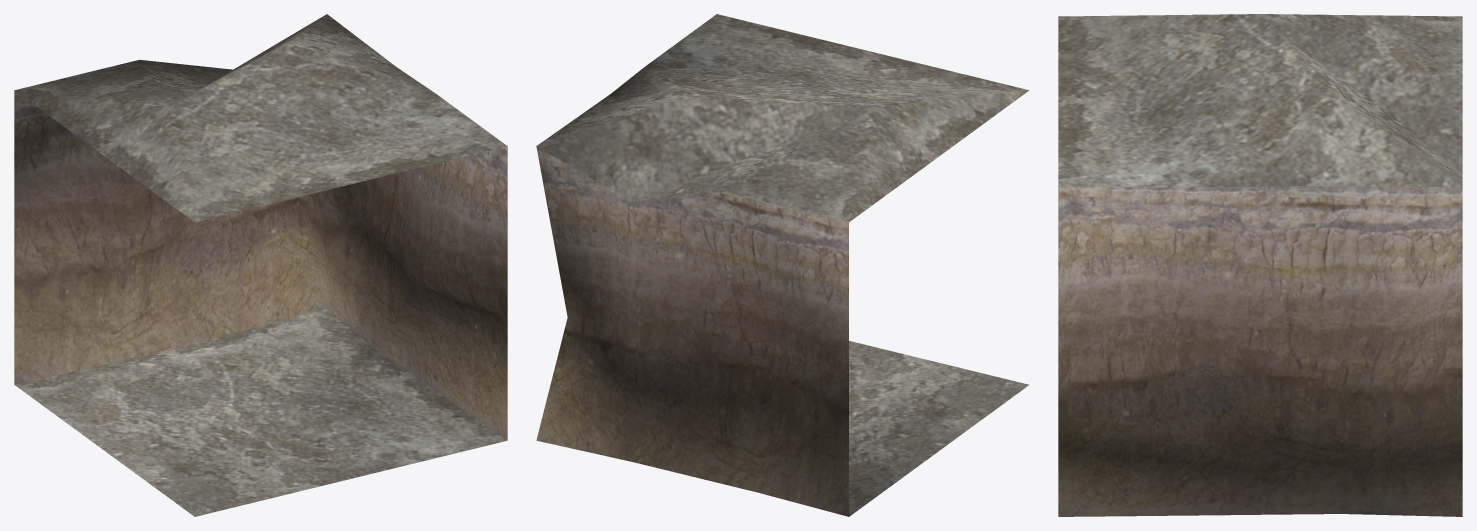
Rendered from corner.obj.
The picture shows the model from 3 angles, left to right: view 1: azimuth 30°, elevation 25°; view 2: azimuth 150°, elevation 25°; view 3: azimuth 270°, elevation 25°; orthographic projection. The views are drawn at different scales.
Parts seen in each view (by area): view 1: stile003; view 2: stile003; view 3: stile003.
Boxes of the visible parts, x1,y1,x2,y2 form: stile003: (14, 14, 507, 516); stile003: (536, 14, 1029, 516); stile003: (1058, 14, 1462, 516).
Size of the model in its own units: 1 by 1 by 1.
1 material, 1 textured.
